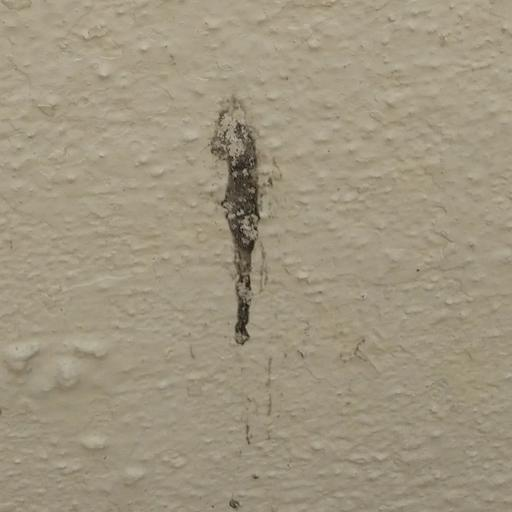stain: (185, 85, 319, 494)
